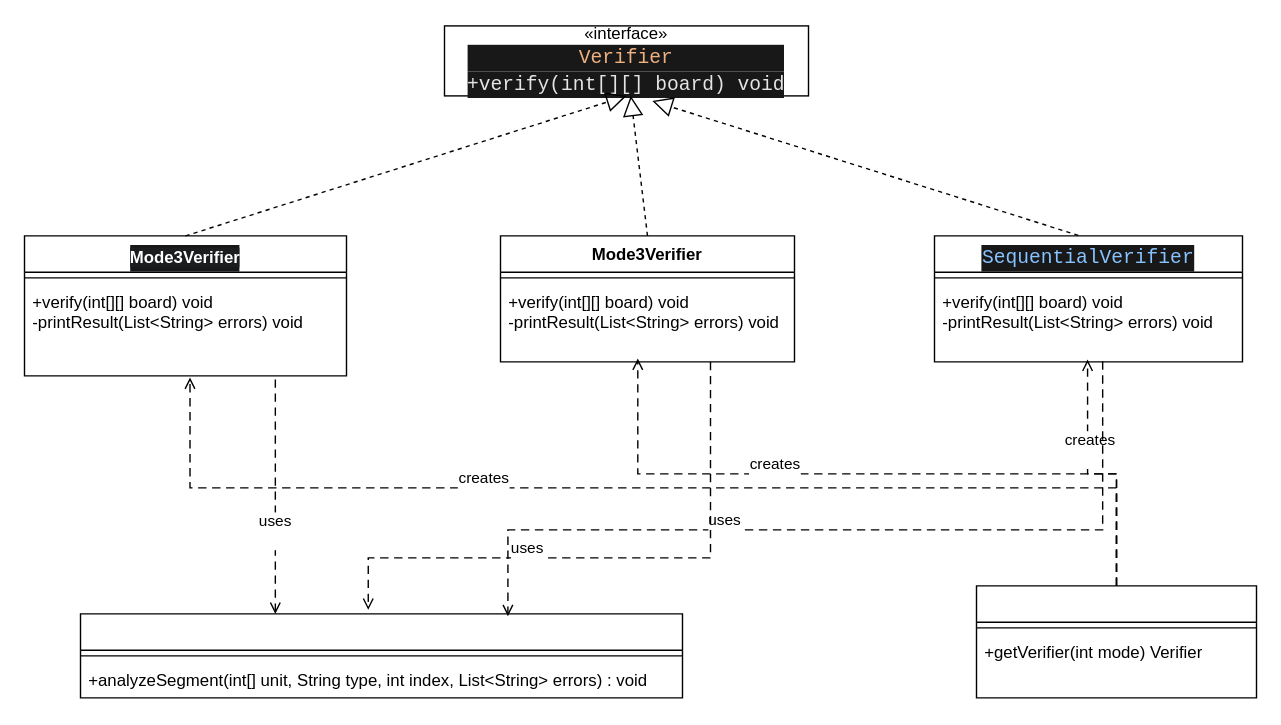
Image size: 1281x725. Some labels were removed from this diagram. The shapes that lost their labels are listed below. From the top down, each one's box as (x1, y1, x2, y2) in pixels, then its label:
(79, 612, 682, 698): utils
(975, 584, 1256, 698): VerifierFactory
